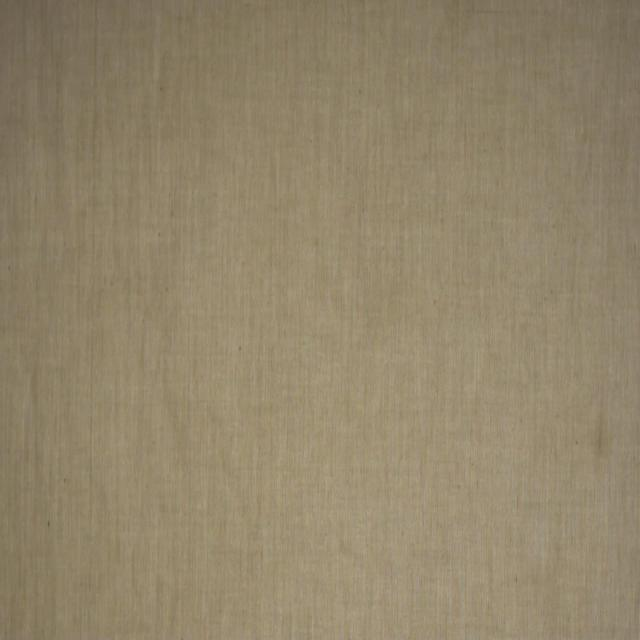dirty: (590, 406, 612, 469)
